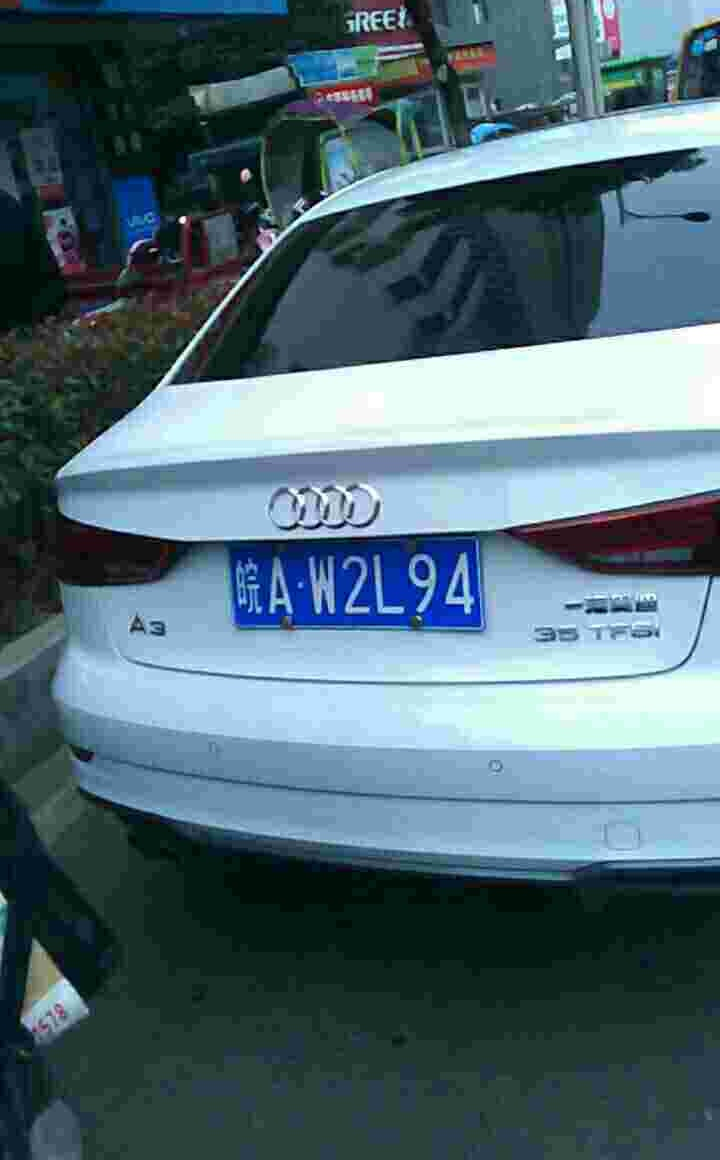plate: (222, 534, 488, 634)
